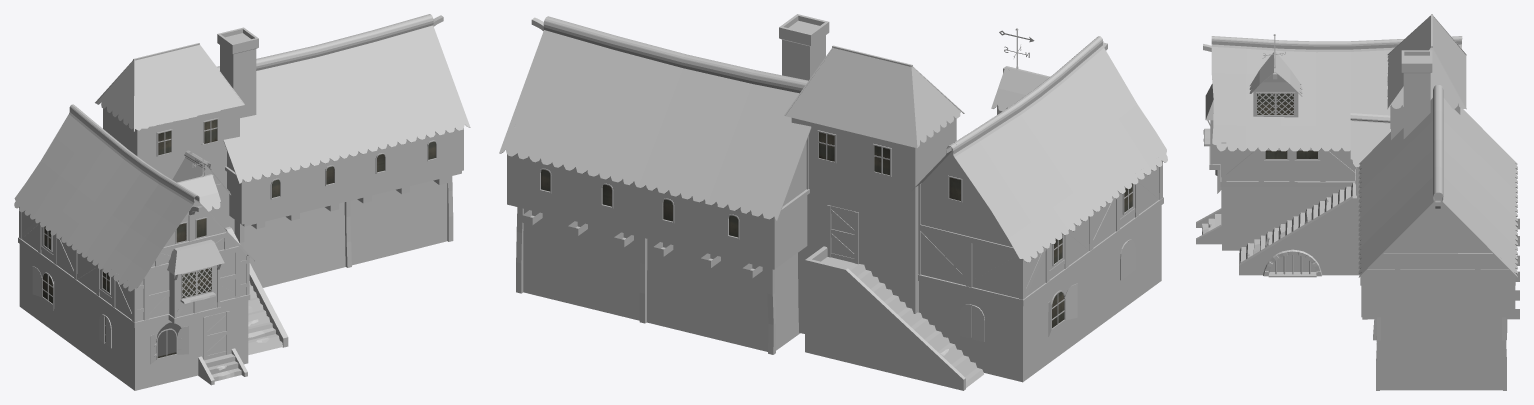
File: building_3.fbx
3 renders of one model, left to right at view 1: azimuth 30°, elevation 25°; view 2: azimuth 150°, elevation 25°; view 3: azimuth 270°, elevation 25°, orthographic. The views are drawn at different scales.
Parts seen in each view (by area): view 1: building_3; view 2: building_3; view 3: building_3.
Boxes of the visible parts, x1,y1,x2,y2 form: building_3: (14, 14, 470, 390); building_3: (499, 14, 1167, 390); building_3: (1196, 14, 1519, 390).
Size of the model in its own units: 21.39 by 11.53 by 14.19.
